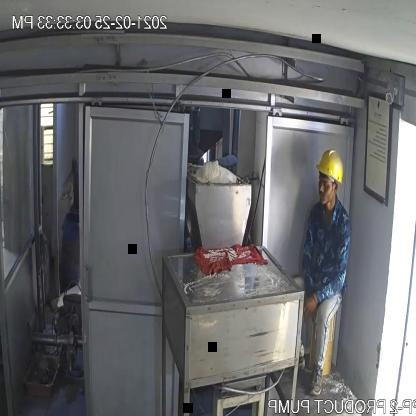helmet: (312, 145, 345, 189)
